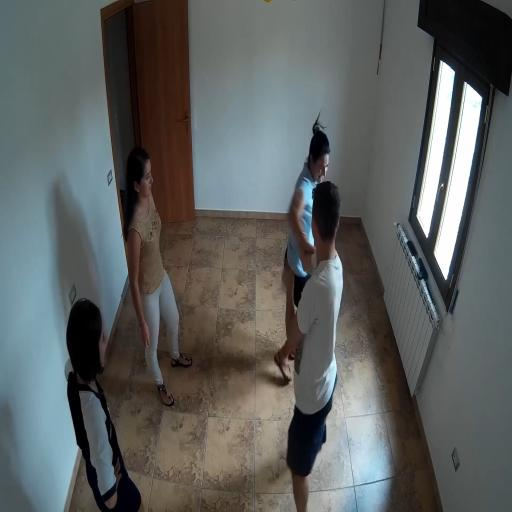violencia: (256, 99, 354, 511)
